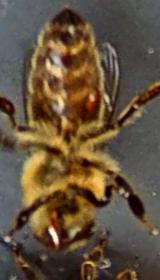varroa_mite: (78, 82, 109, 125)
